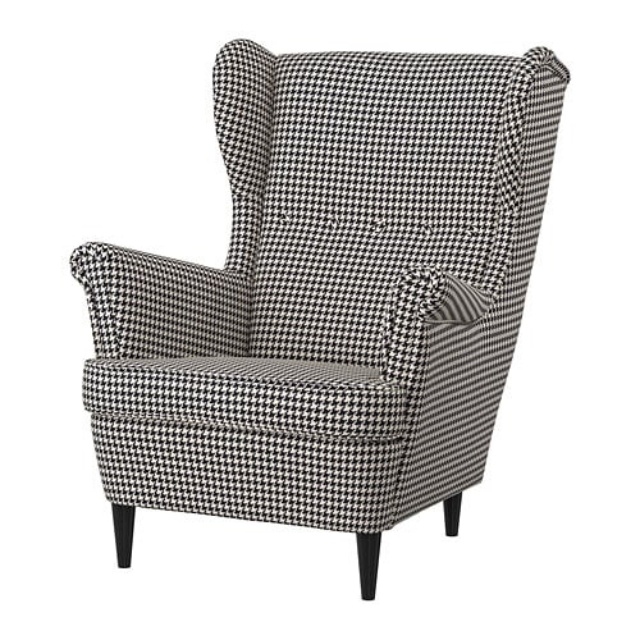obstacle: (70, 40, 568, 598)
